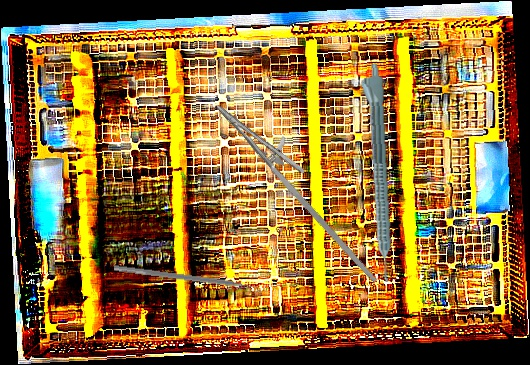Handpiece: (358, 63, 394, 283)
Needle Holder: (196, 90, 408, 284)
Spatula Surgical: (112, 264, 264, 296)
